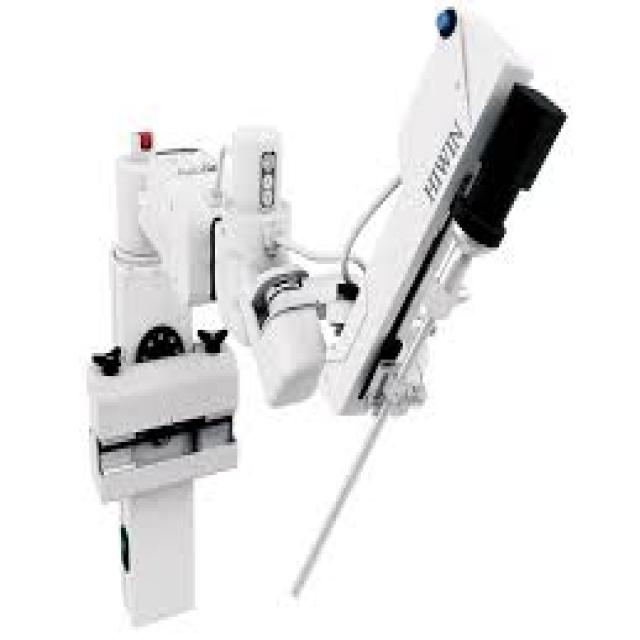Robotic-arm: (80, 1, 572, 640)
